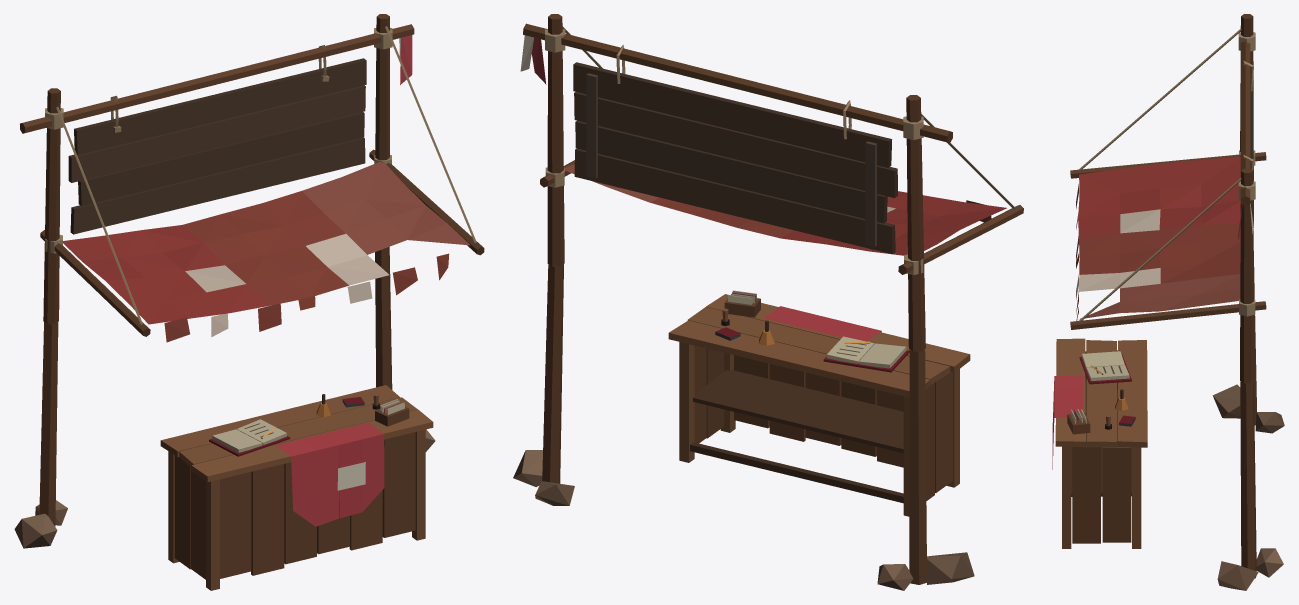
The model's file is tl_furn_stall_checkin_v01.glb.
The picture shows the model from 3 angles, left to right: view 1: azimuth 30°, elevation 25°; view 2: azimuth 150°, elevation 25°; view 3: azimuth 270°, elevation 25°; orthographic projection. The views are drawn at different scales.
Parts seen in each view (by area): view 1: tl_furn_stall_checkin_v01; view 2: tl_furn_stall_checkin_v01; view 3: tl_furn_stall_checkin_v01.
Part boxes in pixels (bbox=[...]): tl_furn_stall_checkin_v01: bbox=[14, 14, 484, 590]; tl_furn_stall_checkin_v01: bbox=[513, 14, 1023, 590]; tl_furn_stall_checkin_v01: bbox=[1052, 14, 1284, 590].
Size of the model in its own units: 3.28 by 3.36 by 1.73.
